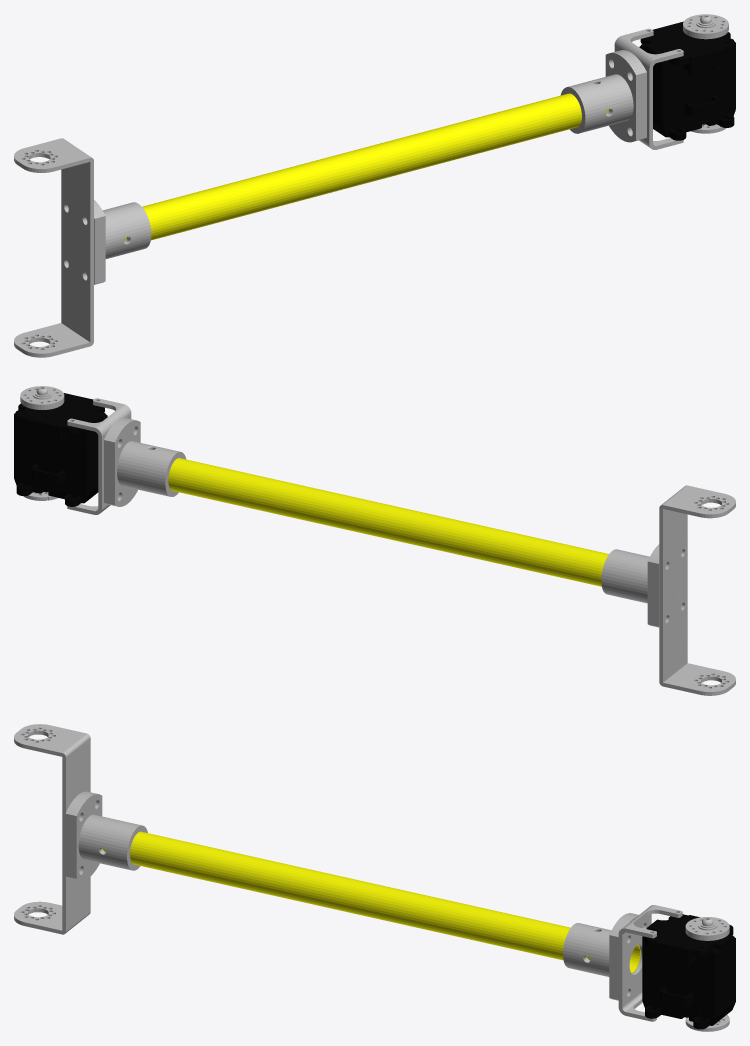
Rendered from arm_simple_mini.dae.
3 renders of one model, top to bottom at view 1: azimuth 30°, elevation 25°; view 2: azimuth 150°, elevation 25°; view 3: azimuth 330°, elevation 25°, orthographic. The views are drawn at different scales.
Parts seen in each view (by area): view 1: node; view 2: node; view 3: node.
Part boxes in pixels (x1,y1,x2,y2): node: (14,14,735,357); node: (14,386,735,695); node: (14,724,735,1031).
Size of the model in its own units: 38.1 by 9.52 by 4.32.
1 material, 1 textured.
